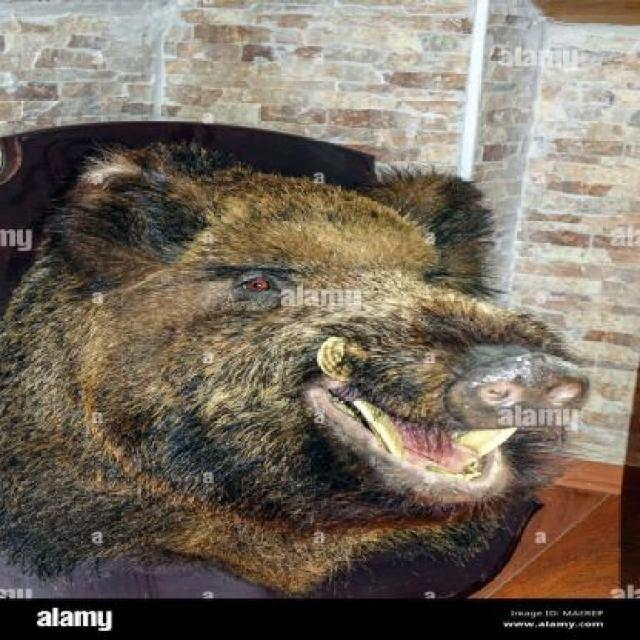wildboar: (0, 153, 594, 595)
